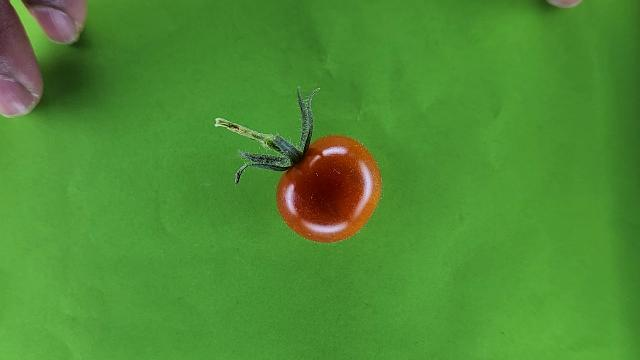Fully Grown: (274, 134, 385, 244)
